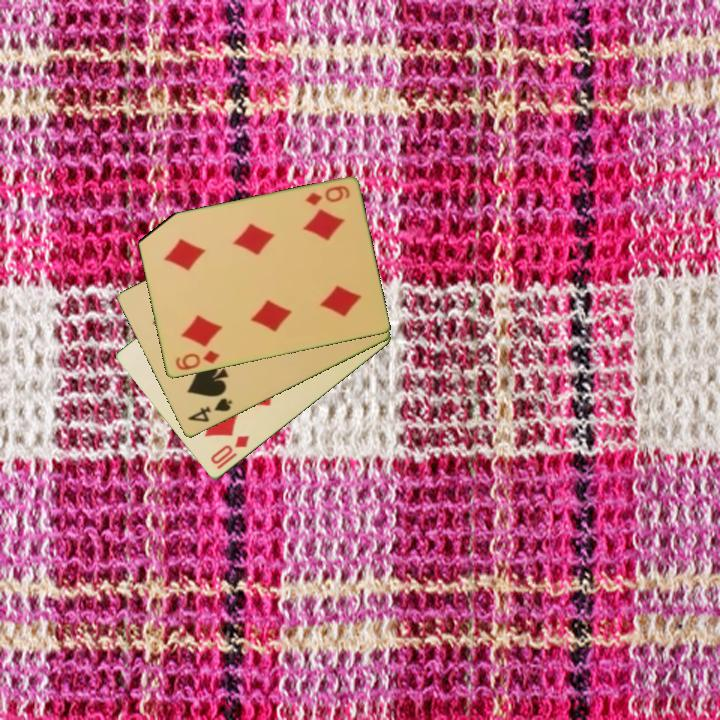10d: (207, 432, 253, 468)
4s: (184, 395, 235, 426)
6d: (302, 182, 353, 209), (172, 347, 222, 373)
